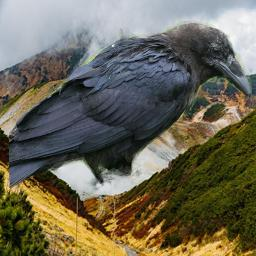Crow: (9, 20, 254, 189)
